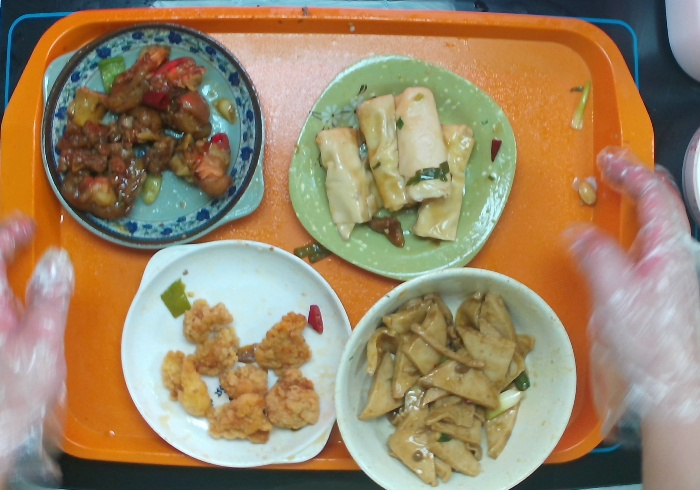NLDX-Bai_Se_Shuang_Er_Die: (116, 243, 359, 487)
NLDX-Bai_Se_Yuan_Wan: (328, 258, 593, 490)
NLDX-Lv_Hua_Fang_Die: (281, 55, 519, 280)
NLDX-Qing_Hua_Shuang_Er_Die: (40, 19, 265, 243)
